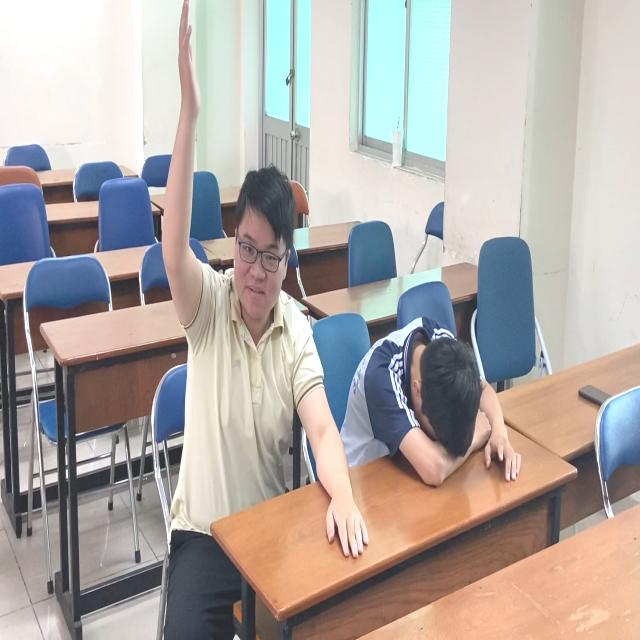raise_hand: (159, 3, 301, 582)
sleep: (342, 310, 524, 495)
